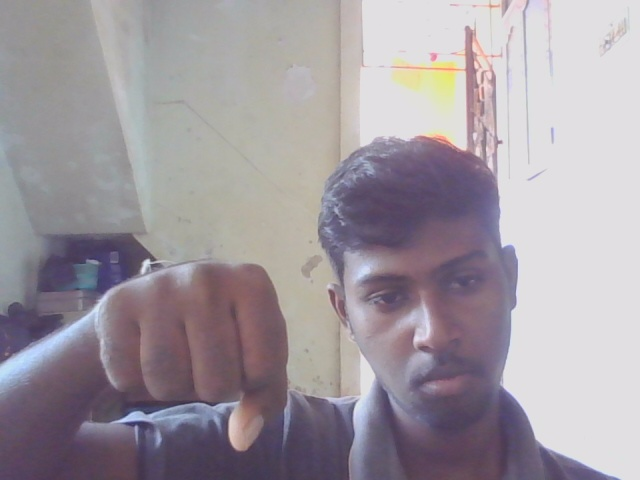No: (80, 258, 318, 468)
